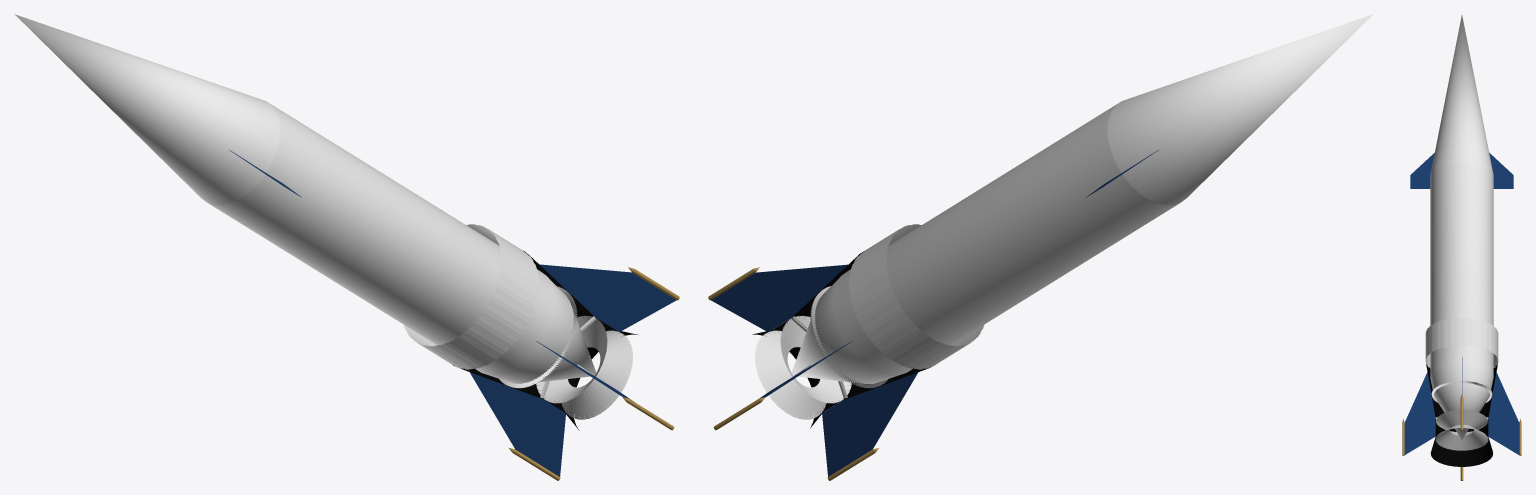
File: Bucknell_Rocket.glb
3 renders of one model, left to right at view 1: azimuth 30°, elevation 25°; view 2: azimuth 150°, elevation 25°; view 3: azimuth 270°, elevation 25°, orthographic. The views are drawn at different scales.
Parts seen in each view (by area): view 1: RocketBody, VariableInlet, PYBB_Nozzle_Opt, RocketScoop; view 2: RocketBody, VariableInlet, PYBB_Nozzle_Opt, RocketScoop; view 3: RocketBody, VariableInlet, RocketScoop, PYBB_Nozzle_Opt, ThrustFanBlades_Opt.
Part boxes in pixels (x1=…): RocketBody: x1=14, y1=14, x2=679, y2=480; VariableInlet: x1=404, y1=224, x2=538, y2=369; PYBB_Nozzle_Opt: x1=536, y1=315, x2=632, y2=419; RocketScoop: x1=453, y1=251, x2=637, y2=430; RocketBody: x1=708, y1=14, x2=1373, y2=480; VariableInlet: x1=849, y1=224, x2=983, y2=369; PYBB_Nozzle_Opt: x1=755, y1=315, x2=851, y2=419; RocketScoop: x1=752, y1=251, x2=934, y2=428; RocketBody: x1=1402, y1=15, x2=1521, y2=480; VariableInlet: x1=1425, y1=318, x2=1498, y2=367; RocketScoop: x1=1426, y1=362, x2=1498, y2=466; PYBB_Nozzle_Opt: x1=1435, y1=410, x2=1488, y2=450; ThrustFanBlades_Opt: x1=1431, y1=381, x2=1492, y2=402.
Size of the model in its own units: 39.15 by 33.71 by 11.27.
